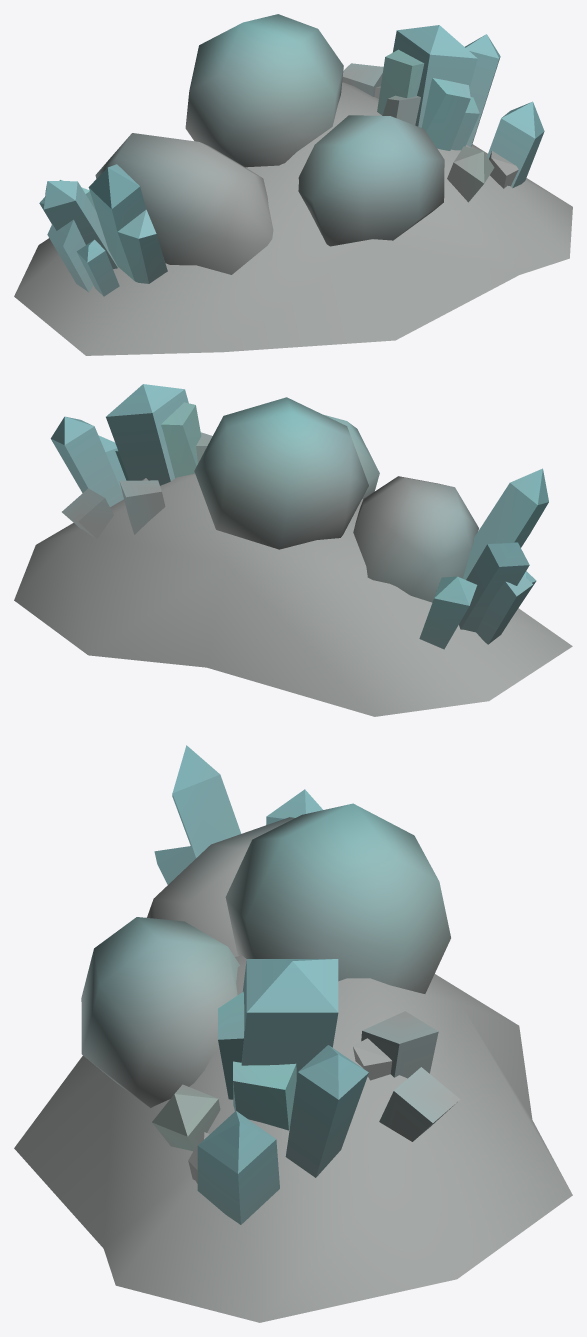
3 renders of one model, top to bottom at view 1: azimuth 30°, elevation 25°; view 2: azimuth 150°, elevation 25°; view 3: azimuth 270°, elevation 25°, orthographic. The views are drawn at different scales.
Parts seen in each view (by area): view 1: G:\FFXIV-MapTools\exports\l1f1\bg\ffxiv\lak_l1\fld\l1f1\bgpa; view 2: G:\FFXIV-MapTools\exports\l1f1\bg\ffxiv\lak_l1\fld\l1f1\bgpa; view 3: G:\FFXIV-MapTools\exports\l1f1\bg\ffxiv\lak_l1\fld\l1f1\bgpa.
Part boxes in pixels (x1=…): G:\FFXIV-MapTools\exports\l1f1\bg\ffxiv\lak_l1\fld\l1f1\bgpa: x1=14, y1=14, x2=572, y2=355; G:\FFXIV-MapTools\exports\l1f1\bg\ffxiv\lak_l1\fld\l1f1\bgpa: x1=14, y1=384, x2=572, y2=716; G:\FFXIV-MapTools\exports\l1f1\bg\ffxiv\lak_l1\fld\l1f1\bgpa: x1=14, y1=745, x2=572, y2=1322.
Size of the model in its own units: 3.78 by 1.64 by 2.56.
